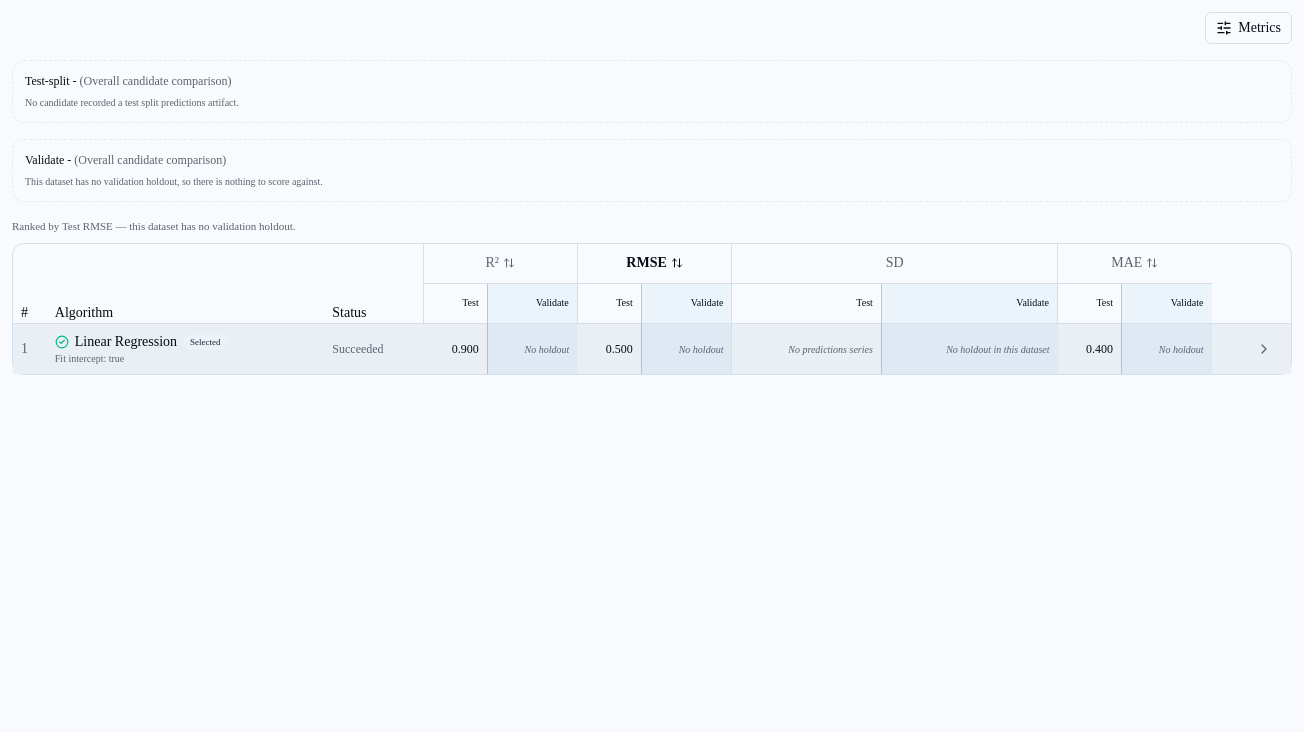
Test: Phase4ModelSelection (MODEL-FLOW-013) › renders mode B (paired marks, no line) for a closed-form algorithm with no loss history
This screenshot has width=1304, height=732.
Note: MODEL-FLOW-019-T06. Reveal this row's charts — hidden by default.
Click the button named "show charts" at point(1264, 349), box [1245,335,1283,363]
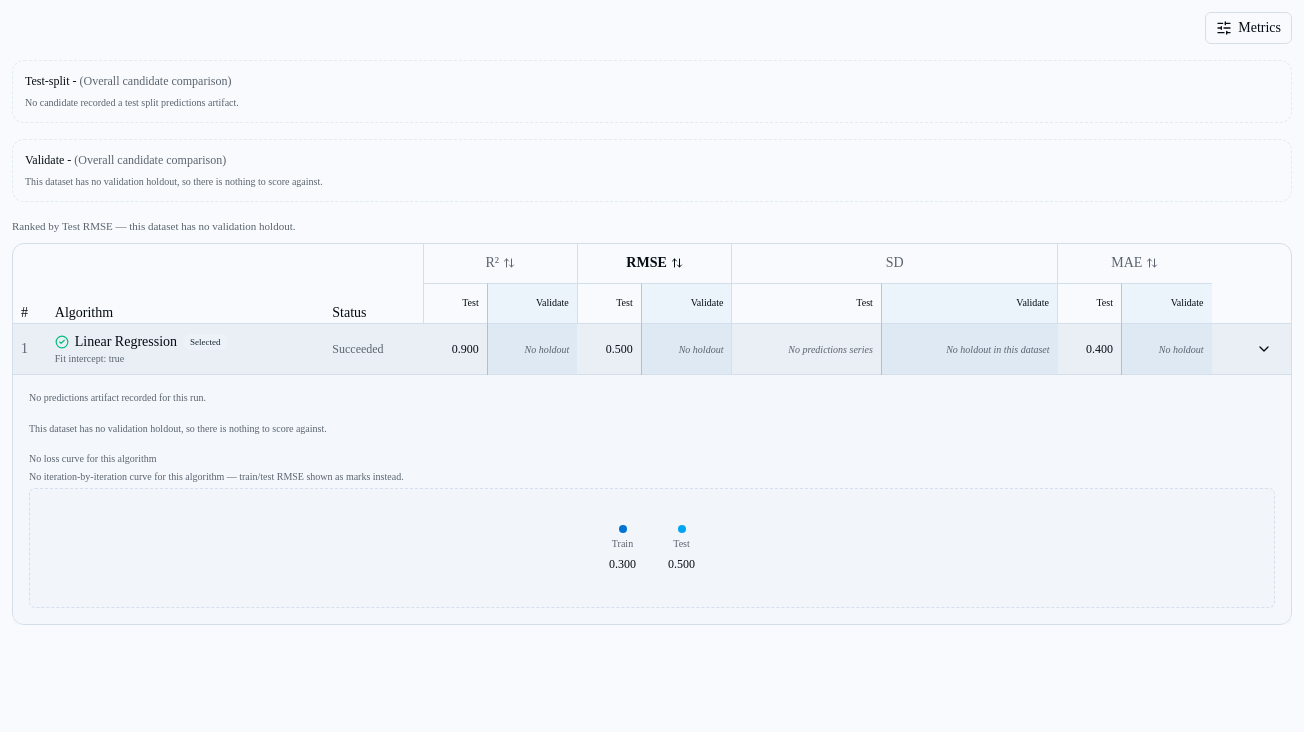
Expected: the text "No iteration-by-iteration curve" is shown, [29,471,404,482]
